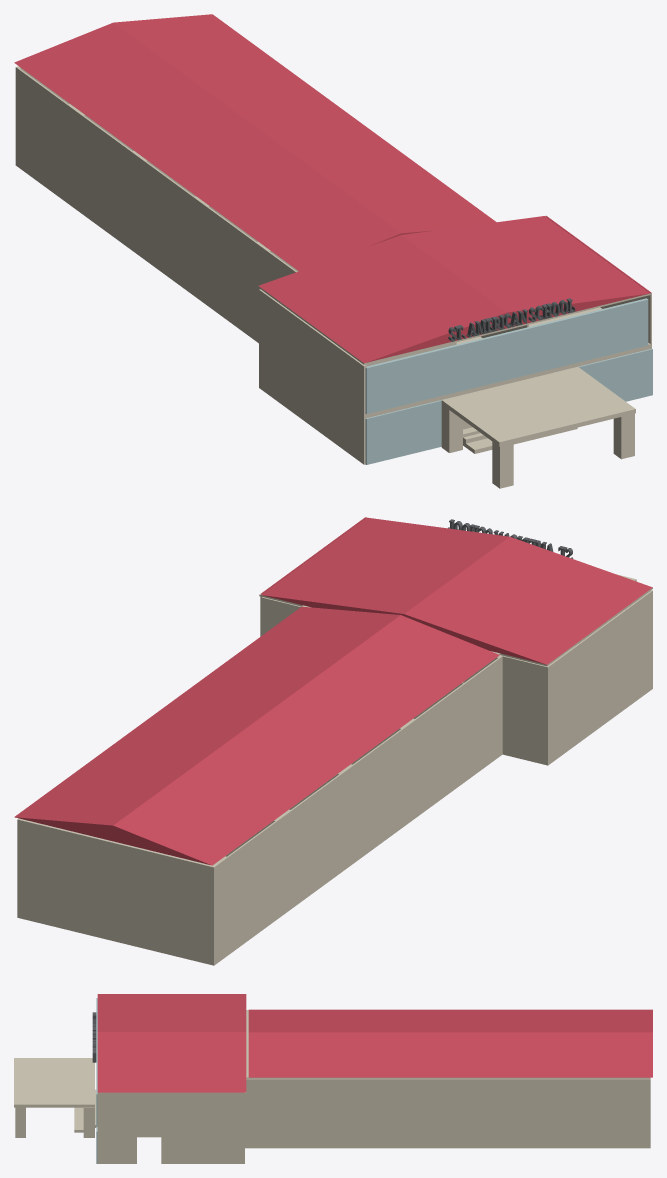
File: ericmain.glb
3 views of the same model, one above another, from view 1: azimuth 30°, elevation 25°; view 2: azimuth 150°, elevation 25°; view 3: azimuth 270°, elevation 25° (orthographic). The views are drawn at different scales.
Parts seen in each view (by area): view 1: Mesh_Mesh_head_geo.001_lambert2SG.001; view 2: Mesh_Mesh_head_geo.001_lambert2SG.001; view 3: Mesh_Mesh_head_geo.001_lambert2SG.001.
Part boxes in pixels (left/top/right/bottom): Mesh_Mesh_head_geo.001_lambert2SG.001: left=14, top=14, right=652, bottom=488; Mesh_Mesh_head_geo.001_lambert2SG.001: left=14, top=517, right=652, bottom=965; Mesh_Mesh_head_geo.001_lambert2SG.001: left=14, top=994, right=652, bottom=1163.
Size of the model in its own units: 190 by 74 by 520.
